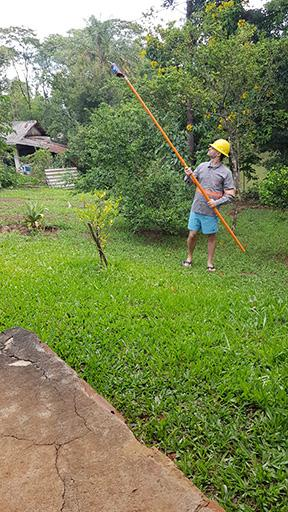Capacete: (203, 137, 231, 164)
Detector_Tensao_Contato: (105, 58, 127, 81)
Vara_Manobra: (123, 74, 245, 254)
